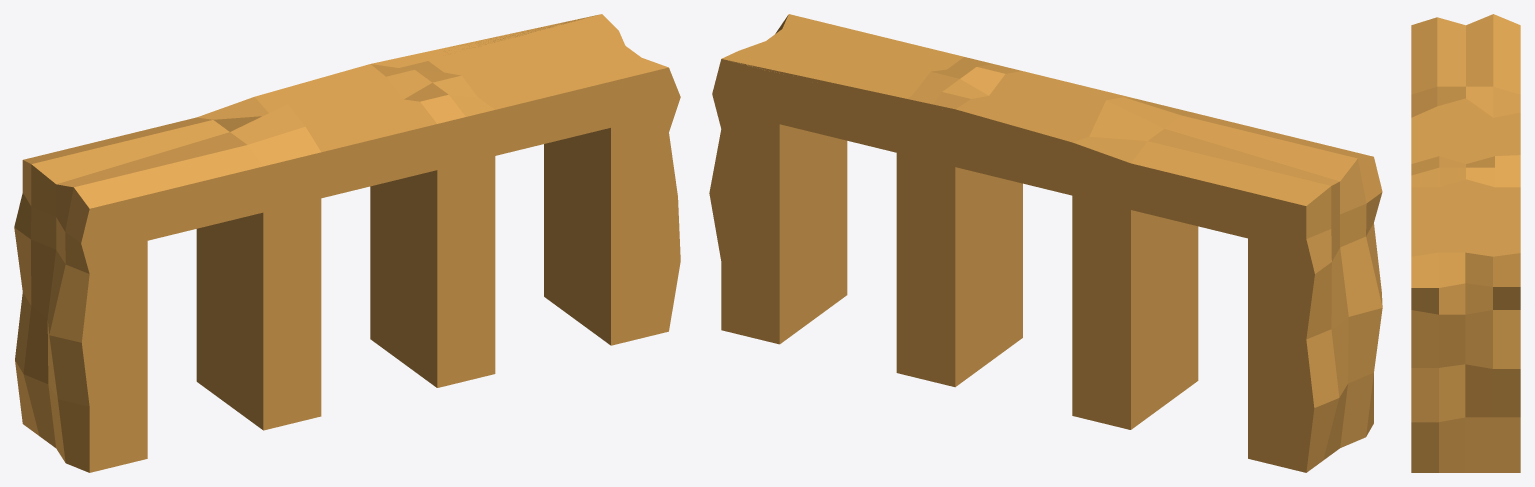
File: tres_passagens.fbx
3 views of the same model, side by side, from view 1: azimuth 30°, elevation 25°; view 2: azimuth 150°, elevation 25°; view 3: azimuth 270°, elevation 25° (orthographic). The views are drawn at different scales.
Parts seen in each view (by area): view 1: tres passagens; view 2: tres passagens; view 3: tres passagens.
Part boxes in pixels (x1,y1,x2,y2): tres passagens: (14, 14, 680, 472); tres passagens: (709, 14, 1382, 472); tres passagens: (1411, 14, 1520, 472).
Bounding box in the file's own units: 10626 × 4751 × 2000.
